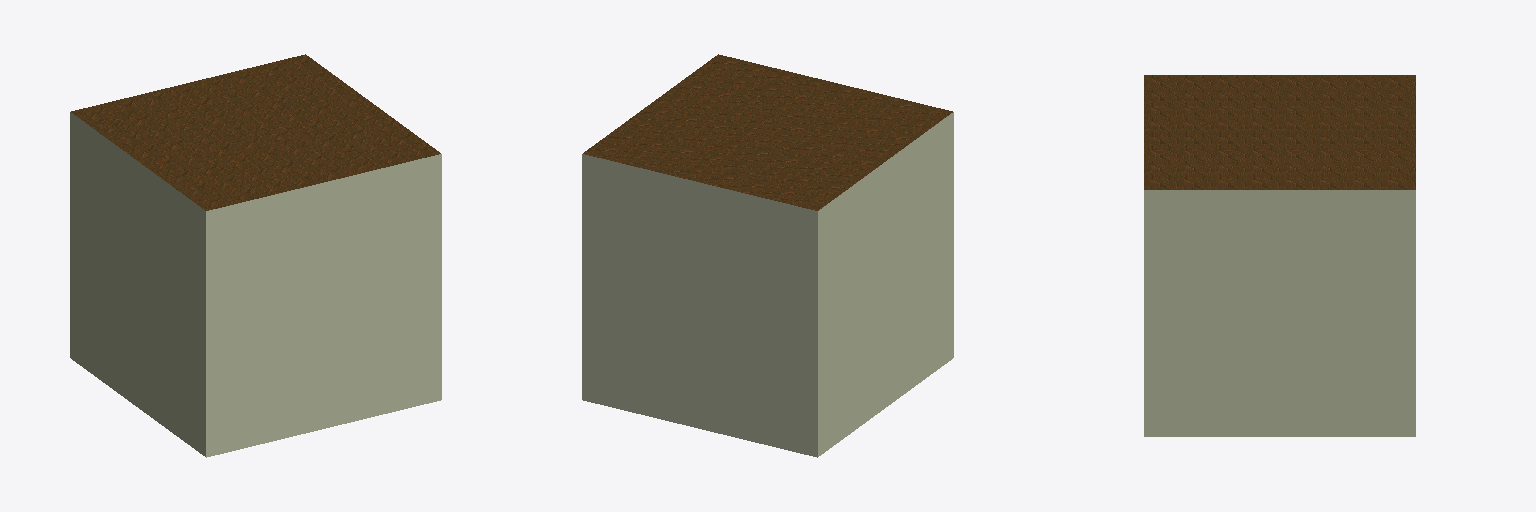
The picture shows the model from 3 angles: view 1: azimuth 30°, elevation 25°; view 2: azimuth 150°, elevation 25°; view 3: azimuth 270°, elevation 25°; orthographic projection.
Parts seen in each view (by area): view 1: Cube1; view 2: Cube1; view 3: Cube1.
Boxes of the visible parts, x1=… form: Cube1: x1=70, y1=54, x2=441, y2=457; Cube1: x1=582, y1=54, x2=953, y2=457; Cube1: x1=1144, y1=75, x2=1415, y2=436.
Bounding box in the file's own units: 2 × 2 × 2.
Materials: 2 (1 with a texture image).